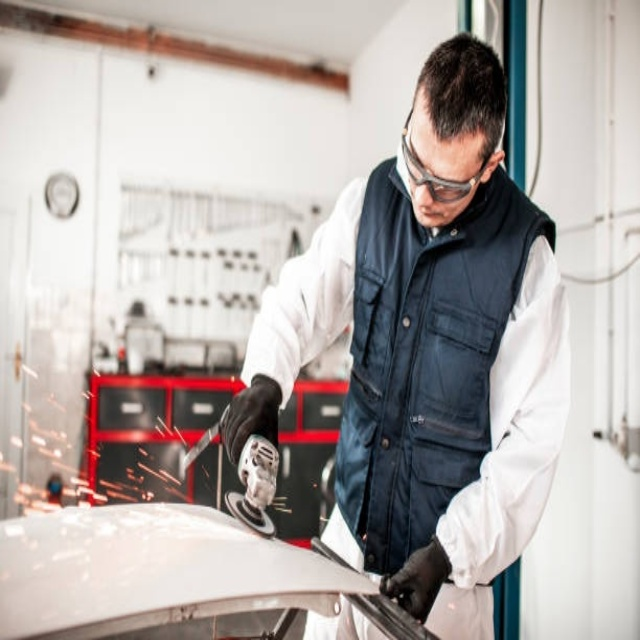Gafas: (402, 110, 493, 201)
Guantes: (380, 535, 453, 624), (219, 375, 281, 474)
Sin_mascara: (402, 184, 444, 229)
